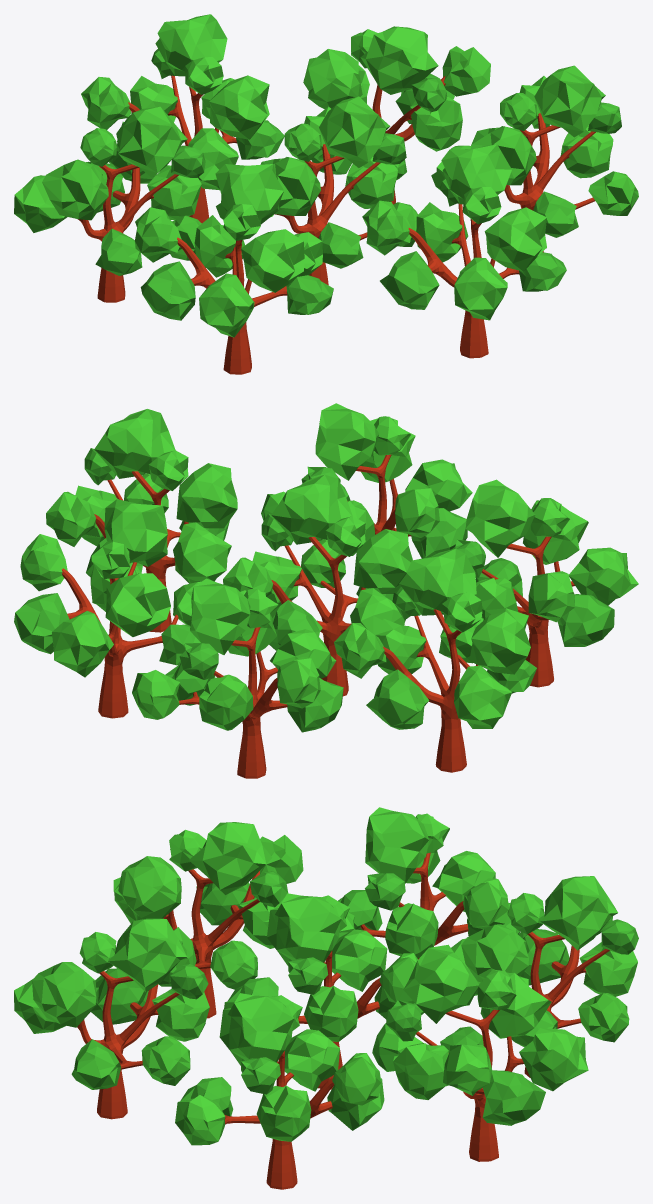
The model's file is 5_tree.fbx.
3 renders of one model, top to bottom at view 1: azimuth 30°, elevation 25°; view 2: azimuth 150°, elevation 25°; view 3: azimuth 270°, elevation 25°, orthographic. The views are drawn at different scales.
Parts seen in each view (by area): view 1: tree_leaf1.006, tree_leaf1.005, tree_leaf2.006, tree_leaf2.004, tree_leaf1.003, tree_leaf2.002, tree_leaf2.005, tree_leaf1.001, tree_leaf2.003, tree_leaf2, tree_leaf2.001, tree_leaf1.004 (+16 smaller); view 2: tree_leaf1.002, tree_leaf1.006, tree_leaf1.001, tree_leaf1.004, tree_leaf1.005, tree_leaf1.003, tree_leaf2.004, tree_leaf2, tree_leaf1, tree_leaf2.002, tree_leaf2.003, tree_leaf2.001 (+16 smaller); view 3: tree_leaf1.001, tree_leaf2.005, tree_leaf1.002, tree_leaf2.003, tree_leaf1, tree_leaf1.004, tree_leaf2.006, tree_leaf2.001, tree_leaf1.006, tree_leaf1.005, tree_leaf2.002, tree_leaf3.005 (+16 smaller).
Part boxes in pixels (x1=…): tree_leaf1.006: x1=135, y1=164, x2=283, y2=337; tree_leaf1.005: x1=362, y1=144, x2=511, y2=320; tree_leaf2.006: x1=194, y1=204, x2=322, y2=292; tree_leaf2.004: x1=42, y1=128, x2=201, y2=260; tree_leaf1.003: x1=81, y1=14, x2=238, y2=190; tree_leaf2.002: x1=470, y1=93, x2=638, y2=215; tree_leaf2.005: x1=416, y1=187, x2=546, y2=271; tree_leaf1.001: x1=358, y1=26, x2=490, y2=103; tree_leaf2.003: x1=130, y1=57, x2=269, y2=139; tree_leaf2: x1=273, y1=123, x2=417, y2=246; tree_leaf2.001: x1=303, y1=29, x2=462, y2=179; tree_leaf1.004: x1=14, y1=106, x2=187, y2=232; tree_leaf1.002: x1=46, y1=409, x2=231, y2=583; tree_leaf1.006: x1=465, y1=479, x2=638, y2=622; tree_leaf1.001: x1=20, y1=499, x2=167, y2=677; tree_leaf1.004: x1=334, y1=548, x2=511, y2=728; tree_leaf1.005: x1=315, y1=403, x2=472, y2=537; tree_leaf1.003: x1=190, y1=578, x2=336, y2=708; tree_leaf2.004: x1=375, y1=592, x2=530, y2=674; tree_leaf2: x1=252, y1=516, x2=412, y2=605; tree_leaf1: x1=223, y1=474, x2=405, y2=634; tree_leaf2.002: x1=75, y1=450, x2=237, y2=546; tree_leaf2.003: x1=132, y1=589, x2=279, y2=730; tree_leaf2.001: x1=90, y1=541, x2=200, y2=636; tree_leaf1.001: x1=403, y1=944, x2=588, y2=1095; tree_leaf2.005: x1=32, y1=932, x2=209, y2=1085; tree_leaf1.002: x1=227, y1=993, x2=381, y2=1105; tree_leaf2.003: x1=461, y1=893, x2=637, y2=1042; tree_leaf1: x1=275, y1=893, x2=417, y2=1003; tree_leaf1.004: x1=365, y1=807, x2=508, y2=929; tree_leaf2.006: x1=118, y1=829, x2=284, y2=989; tree_leaf2.001: x1=372, y1=969, x2=551, y2=1099; tree_leaf1.006: x1=113, y1=822, x2=303, y2=923; tree_leaf1.005: x1=14, y1=918, x2=196, y2=1033; tree_leaf2.002: x1=175, y1=995, x2=311, y2=1145; tree_leaf3.005: x1=71, y1=963, x2=208, y2=1089.
Size of the model in its own units: 13099 by 4684 by 13234.
